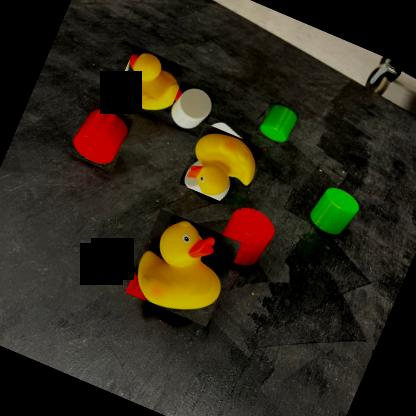duck: (124, 209, 242, 326), (178, 122, 266, 210), (112, 46, 191, 122)
green cylinder: (304, 180, 364, 242), (256, 98, 300, 146)
red cylinder: (210, 197, 284, 275), (65, 100, 134, 172)
white cylinder: (194, 116, 252, 170), (164, 81, 216, 136)
